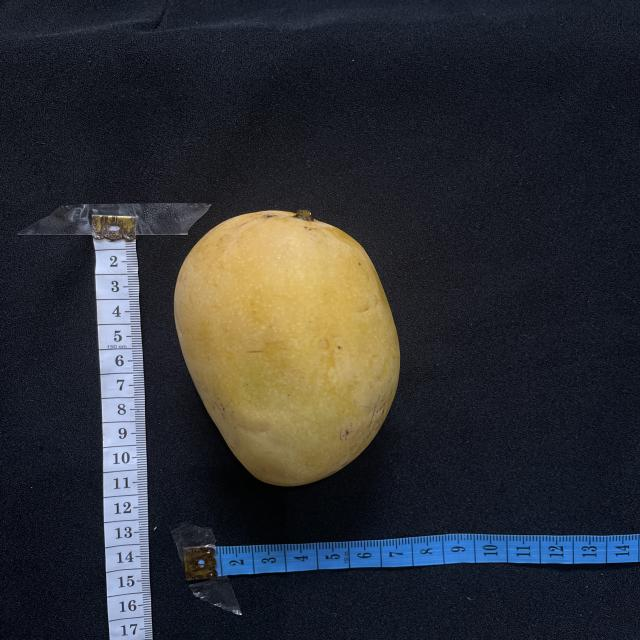Ripe: (174, 211, 400, 486)
